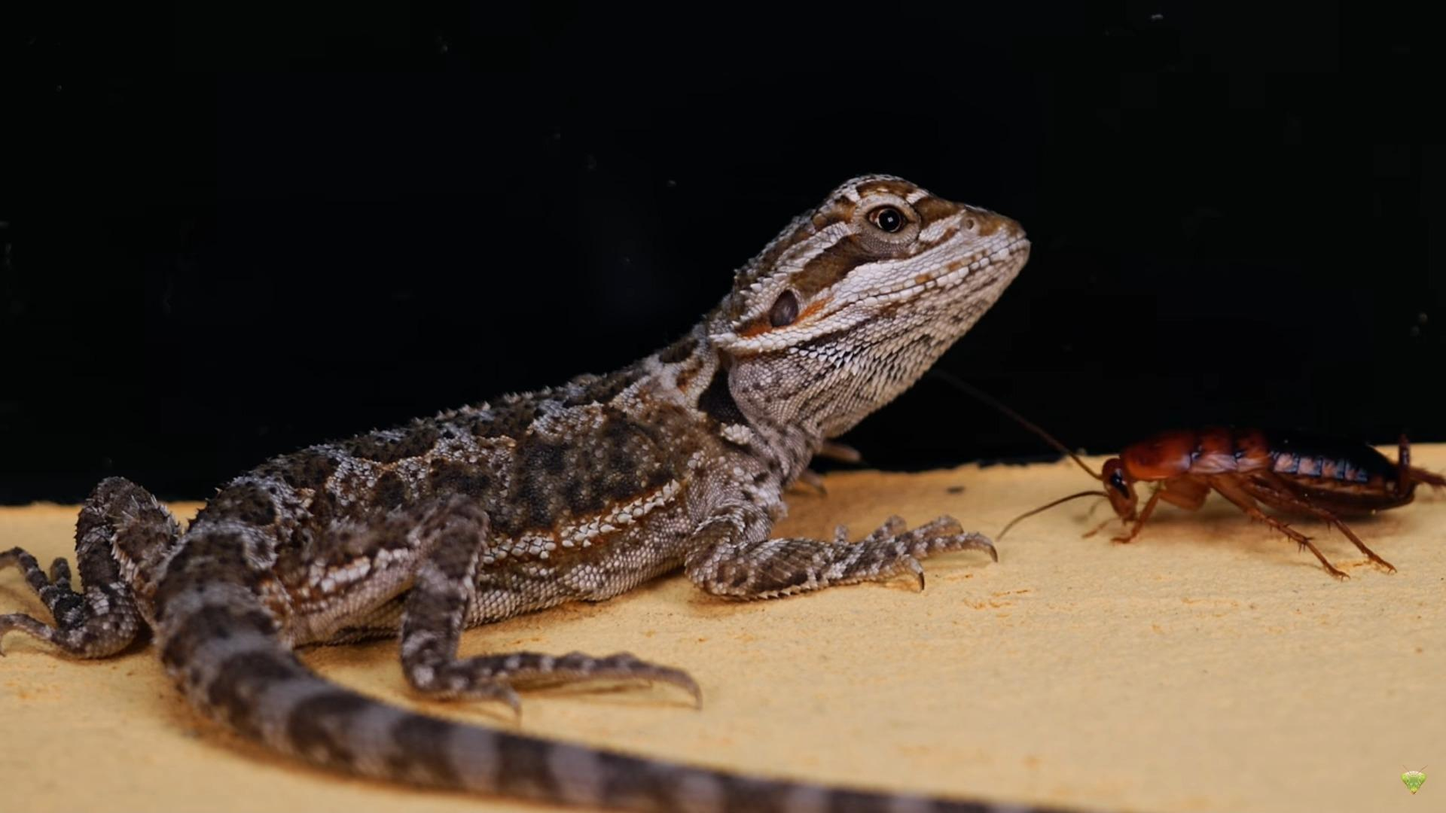cockroach: (1079, 403, 1434, 581)
lizard: (37, 158, 1031, 813)
